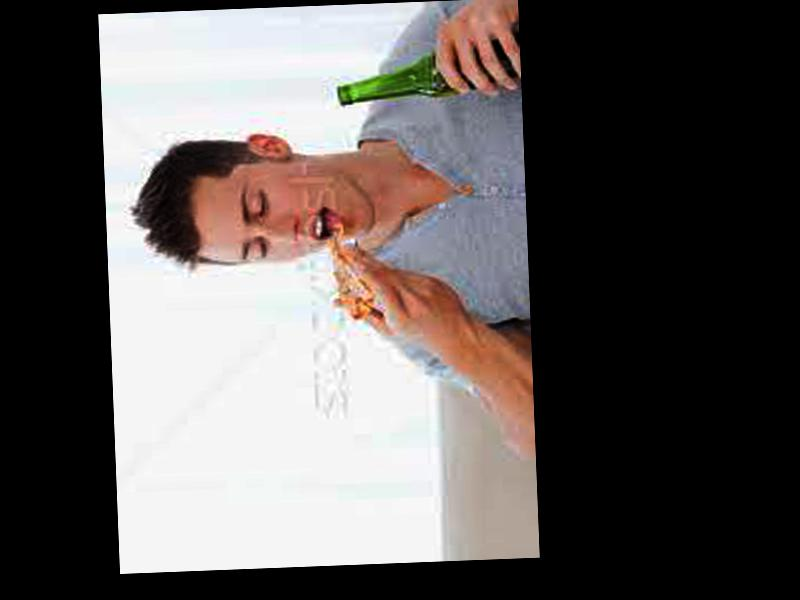Beer: (336, 30, 522, 106)
